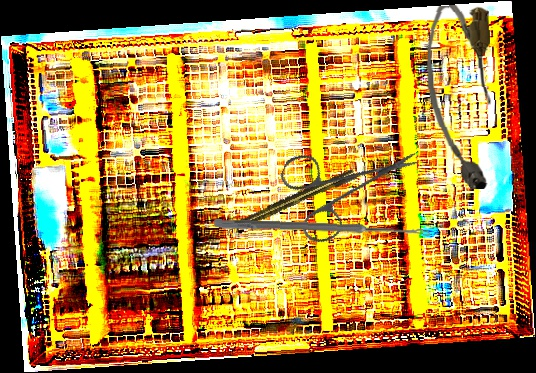Cannula: (423, 3, 498, 192)
Handpiece: (222, 167, 359, 237)
Iris Scissors: (261, 106, 421, 268)
Surgical Spoon: (213, 219, 432, 237)
